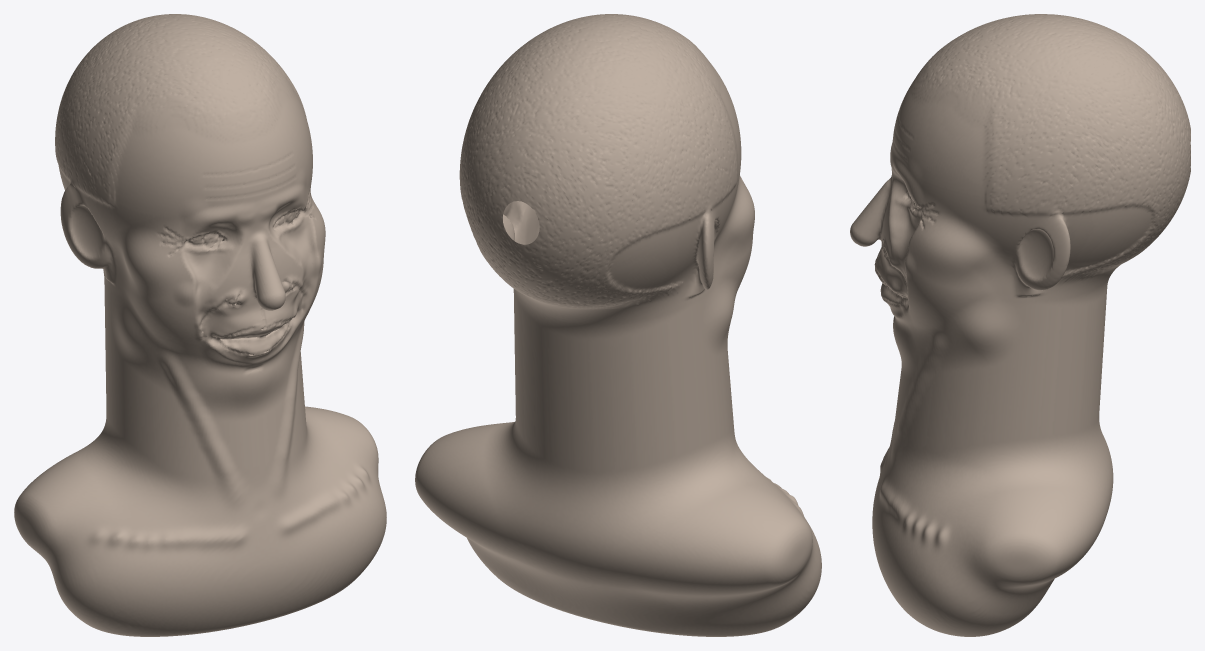
Rendered from sam_bust.glb.
The picture shows the model from 3 angles, left to right: view 1: azimuth 30°, elevation 25°; view 2: azimuth 150°, elevation 25°; view 3: azimuth 270°, elevation 25°; orthographic projection. The views are drawn at different scales.
Parts seen in each view (by area): view 1: Sam; view 2: Sam; view 3: Sam.
Part boxes in pixels (x1,y1,x2,y2): Sam: (14,14,386,636); Sam: (415,14,821,636); Sam: (850,14,1190,636).
Bounding box in the file's own units: 0.2559 × 0.391 × 0.2189.
